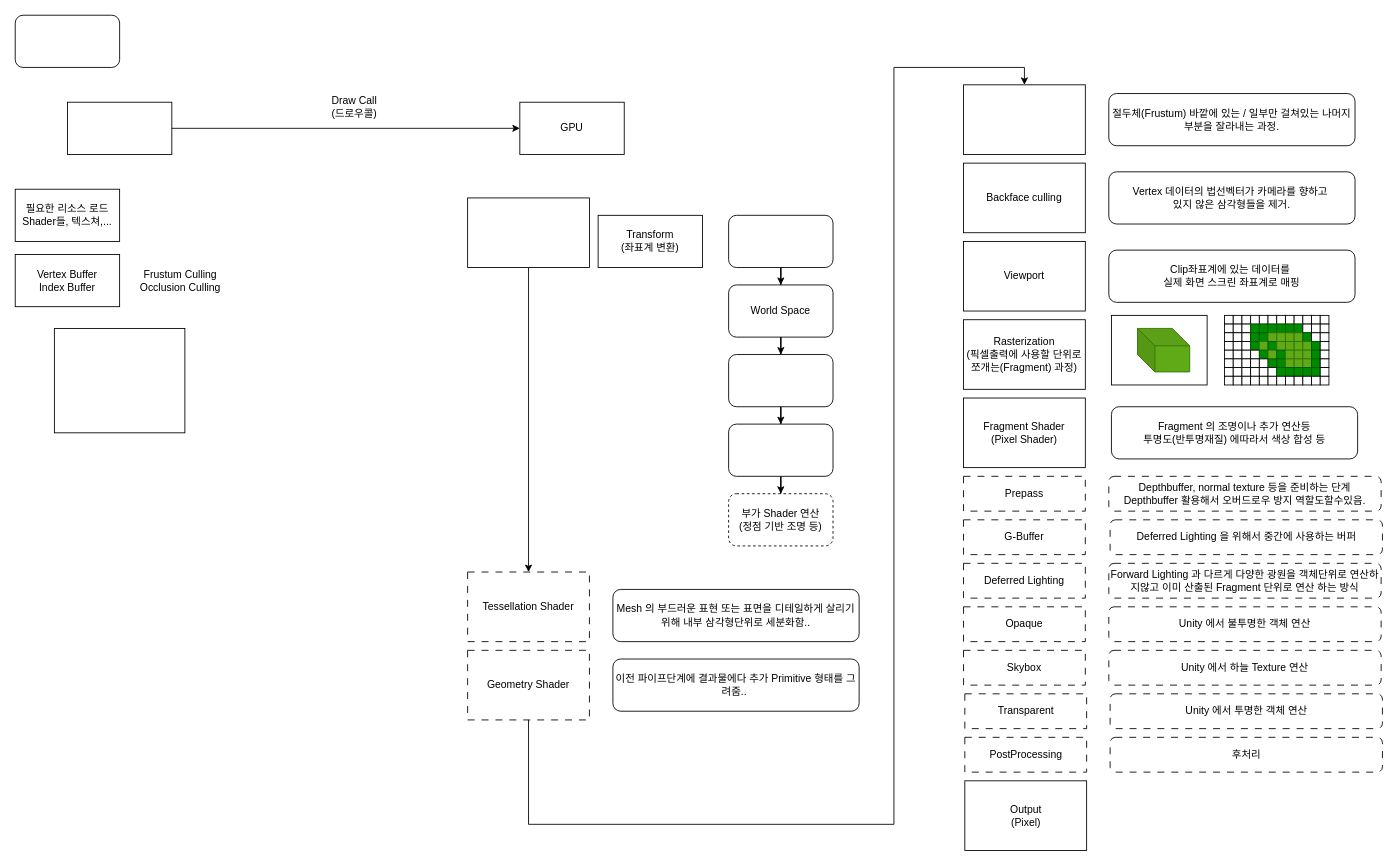
The diagram is 1398 pixels wide and 866 high, and some of its shapes have lost their labels. Here are the shapes that lost their labels. From the top down, the centre of each, then its label:
(x=67, y=40): Rendering Pipeline
(x=119, y=127): CPU
(x=1024, y=119): Clipping
(x=528, y=232): Vertex Shader
(x=780, y=241): Local Space
(x=119, y=380): Vertex data : 꼭짓점의 위치, 법선, 텍스쳐 좌표, 색상 등
(x=780, y=380): View Space
(x=780, y=449): Clip Space
